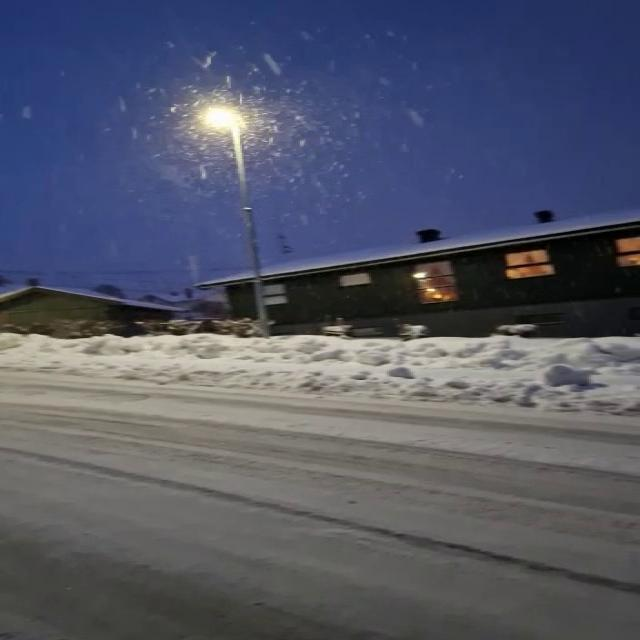path: (2, 373, 638, 640)
